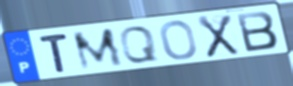B: (234, 10, 280, 54)
M: (70, 26, 127, 73)
O: (158, 19, 200, 61)
Q: (118, 24, 160, 64)
T: (37, 32, 71, 74)
X: (196, 13, 241, 59)
